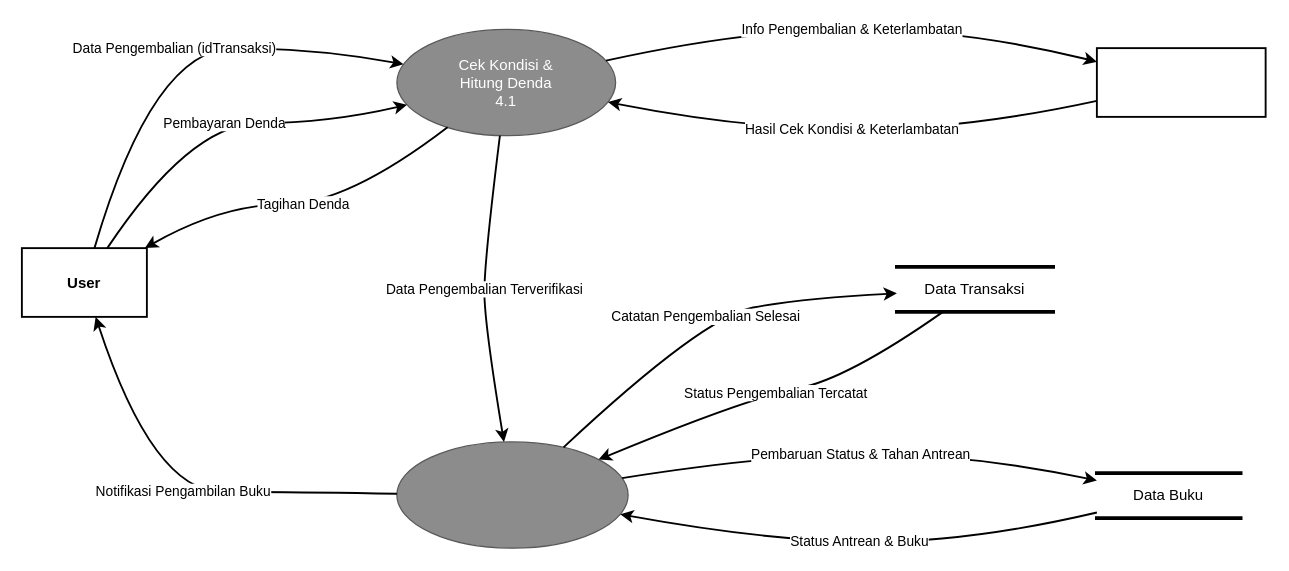
This 1289x571 diagram has some shape labels left out. Here are the shapes that lost their labels. From the top down, the centre of each, then its label:
At point (1180, 82): "Staff Perpustakaan".
At point (512, 494): "Catat Pengembalian & Cek Antrean 4.2".
